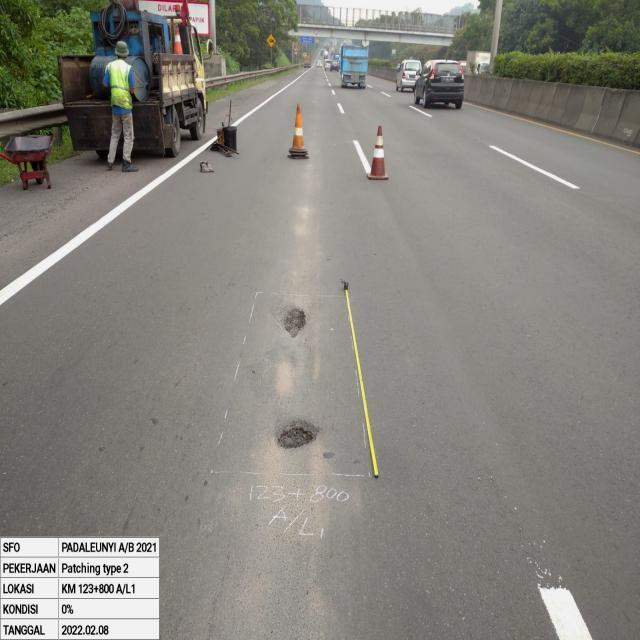Buraco: (273, 416, 324, 452), (278, 304, 312, 341)
